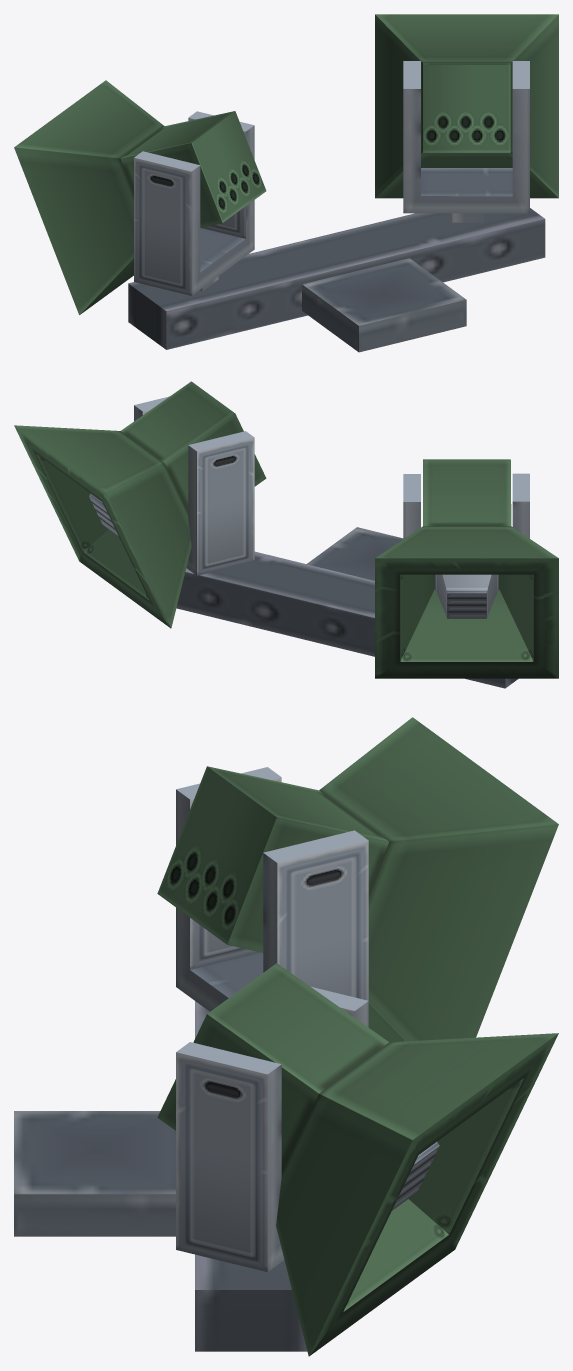
Rendered from speakers.fbx.
3 renders of one model, top to bottom at view 1: azimuth 30°, elevation 25°; view 2: azimuth 150°, elevation 25°; view 3: azimuth 270°, elevation 25°, orthographic. The views are drawn at different scales.
Parts seen in each view (by area): view 1: speakers; view 2: speakers; view 3: speakers.
Boxes of the visible parts, x1,y1,x2,y2 form: speakers: (14, 14, 558, 352); speakers: (14, 381, 558, 688); speakers: (14, 717, 558, 1356).
Size of the model in its own units: 2.2 by 0.7621 by 1.2.
